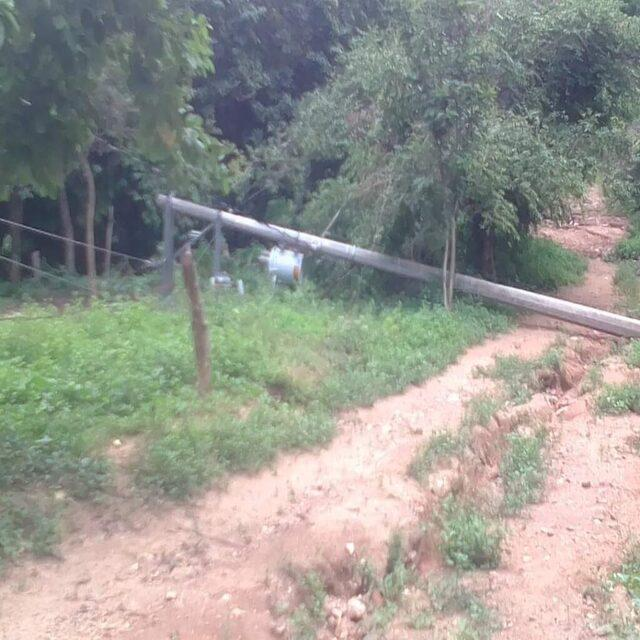Inclined Pole: (152, 183, 640, 347)
